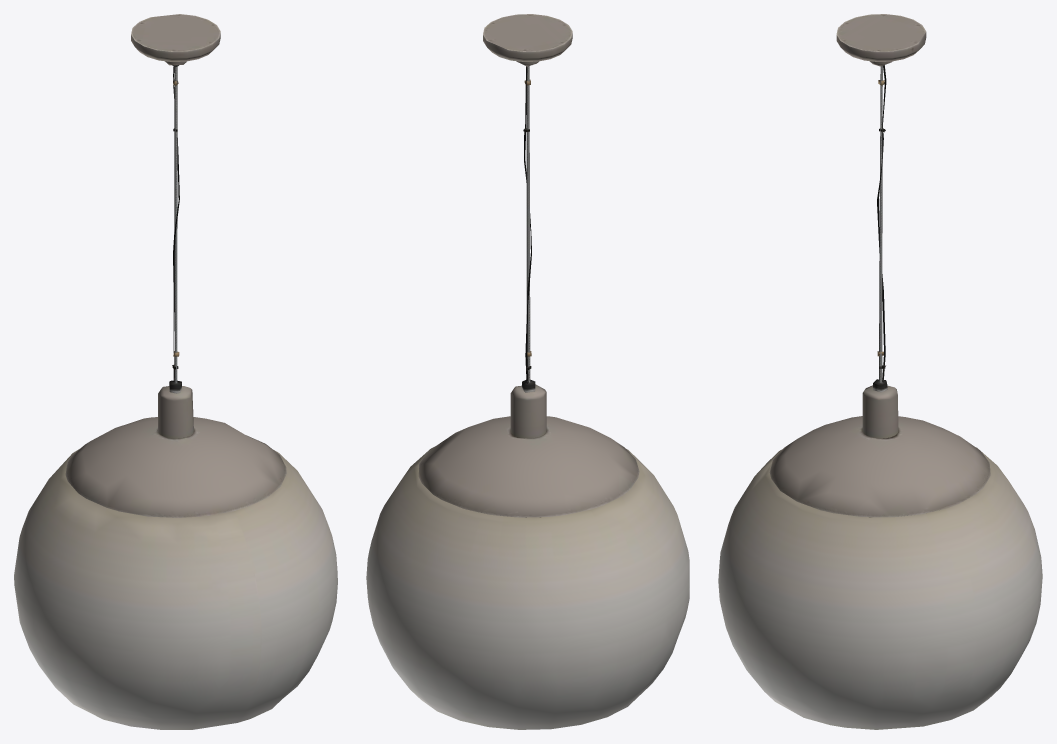
Rendered from modern_ceiling_lamp_01.glb.
3 renders of one model, left to right at view 1: azimuth 30°, elevation 25°; view 2: azimuth 150°, elevation 25°; view 3: azimuth 270°, elevation 25°, orthographic.
Parts seen in each view (by area): view 1: modern_ceiling_lamp_01; view 2: modern_ceiling_lamp_01; view 3: modern_ceiling_lamp_01.
Part boxes in pixels (<box>): modern_ceiling_lamp_01: <box>14,14,337,729</box>; modern_ceiling_lamp_01: <box>366,14,689,729</box>; modern_ceiling_lamp_01: <box>718,14,1042,729</box>.
Bounding box in the file's own units: 0.4316 × 0.9512 × 0.4316.
2 materials, 2 textured.
